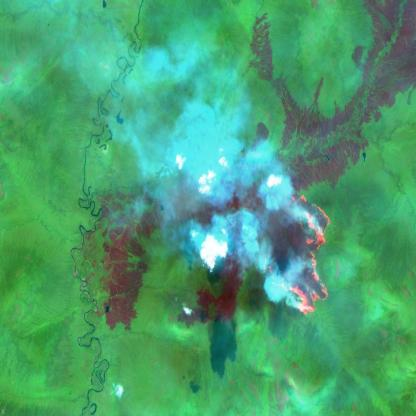fire: (257, 186, 336, 322)
